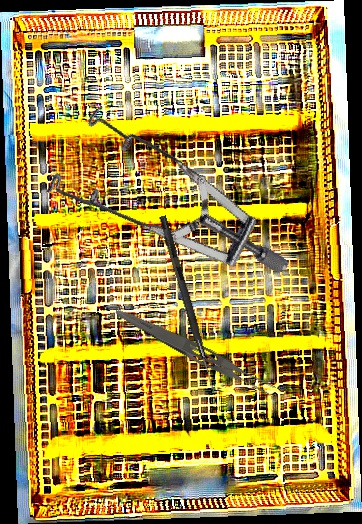Dressing Forceps: (110, 304, 280, 401)
Hook Surgical: (157, 215, 219, 392)
Speculum: (22, 63, 292, 352)
